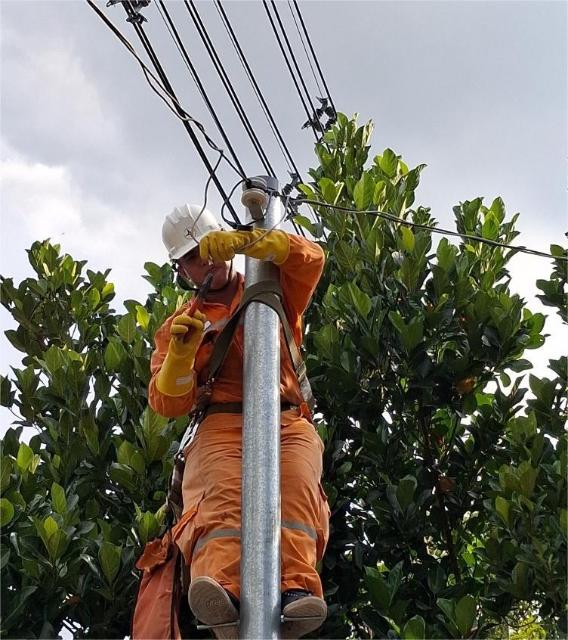gloves: (156, 299, 208, 396), (203, 224, 292, 271)
harness: (161, 393, 324, 441)
helmet: (145, 198, 223, 265)
shoes: (171, 573, 254, 640), (260, 576, 337, 640)
